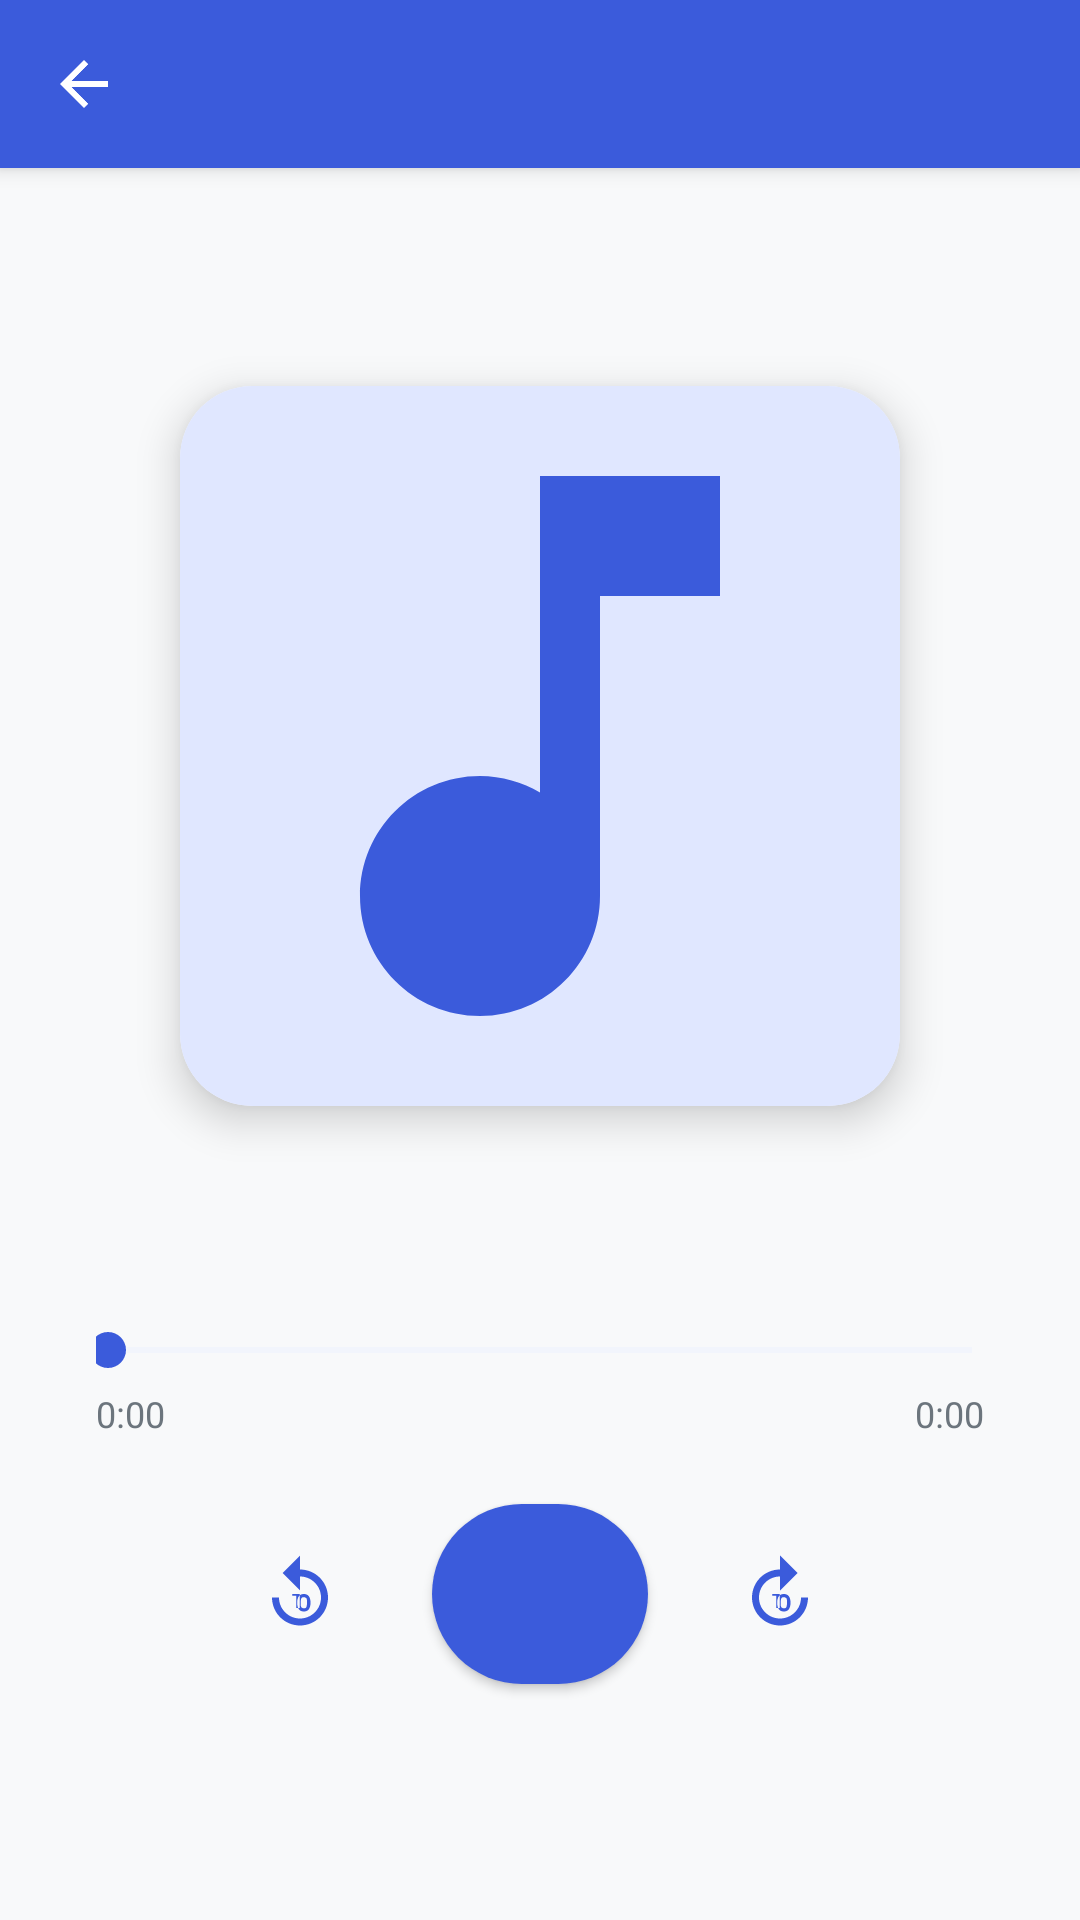

Where icons sit on this 1080×1920 app screen, as [x1=x1, y1=y1, x2=x2, y2=y2]:
forward: [x1=752, y1=1555, x2=808, y2=1626]
replay: [x1=272, y1=1556, x2=328, y2=1626]
